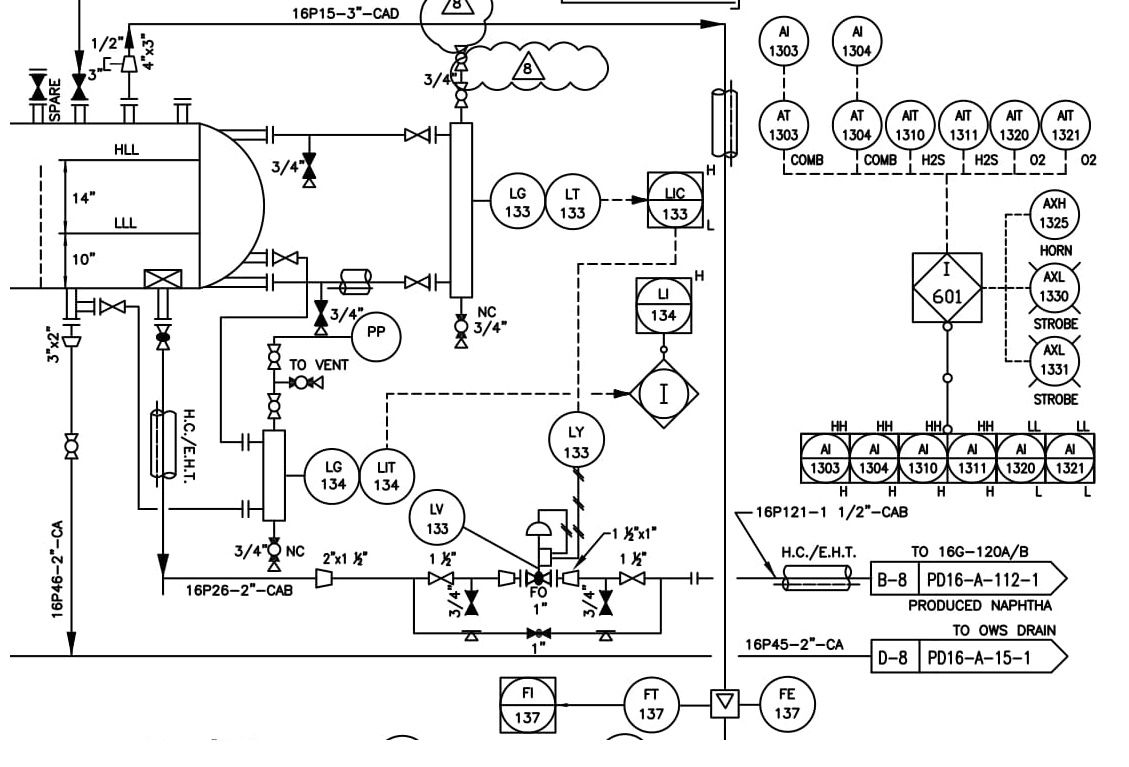Inline Instrument: (408, 487, 469, 548), (546, 409, 607, 470), (621, 673, 682, 734), (757, 673, 818, 734), (755, 12, 813, 69), (830, 12, 888, 69), (756, 96, 814, 153), (826, 95, 884, 152), (1039, 94, 1097, 151), (935, 93, 993, 150), (1027, 184, 1085, 241), (488, 171, 546, 228), (302, 447, 360, 504)
Panel Instrument: (496, 675, 558, 739), (633, 271, 695, 335), (646, 167, 708, 231), (797, 431, 852, 490), (897, 429, 950, 486), (993, 429, 1046, 486), (1044, 429, 1097, 486)
